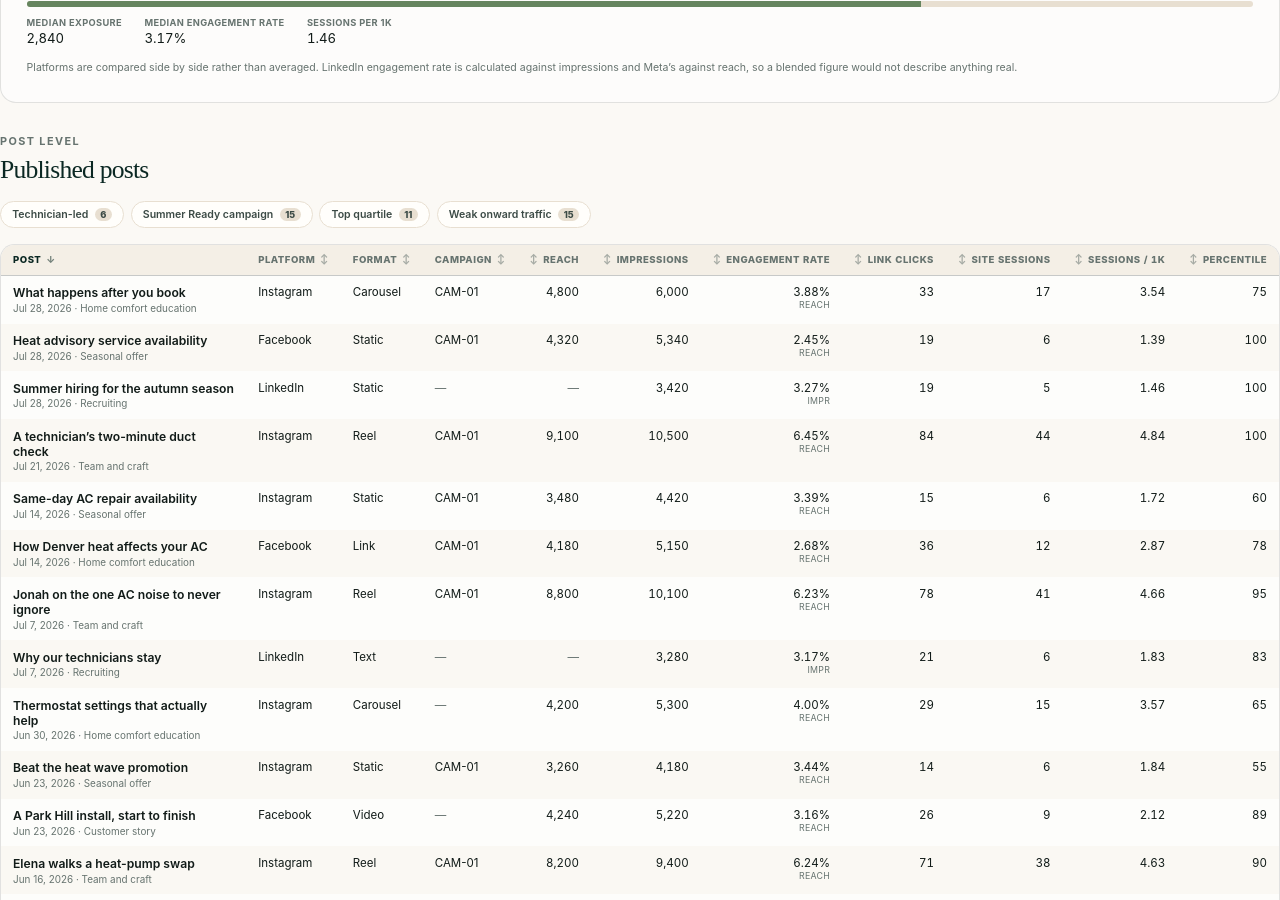
Test: SocialWorkspaceView › ranks a post against its own account rather than an industry benchmark
The width and height of the screenshot is (1280, 900).
(page scrolled)
Click the button "technician’s two-minute duct check".
click(124, 450)  # box [13,429,234,472]
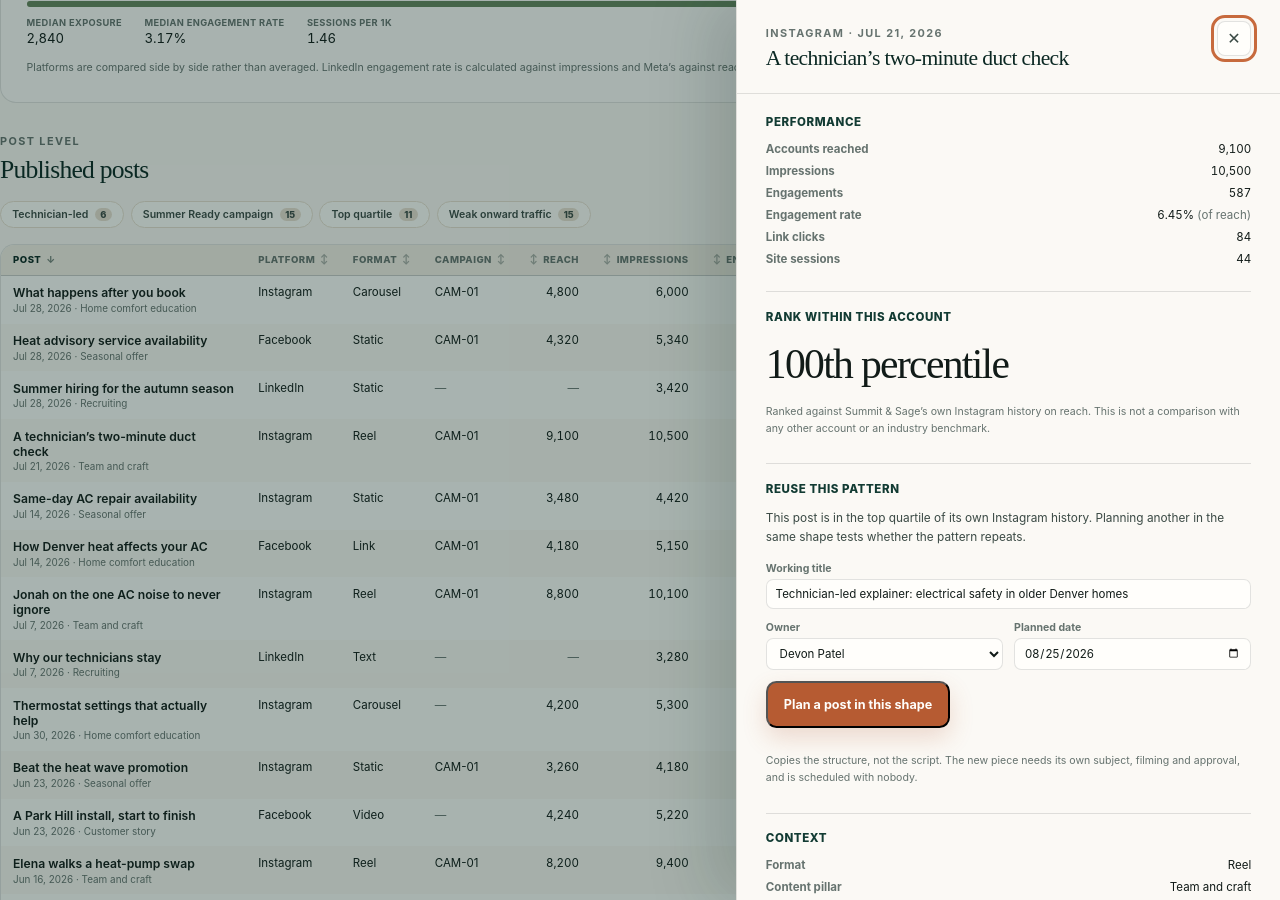
Result: the text "100th percentile" is shown at [766,341,1008,387]
Result: the text "not a comparison with any other account or an industry benchmark" is shown at [766,405,1240,435]
